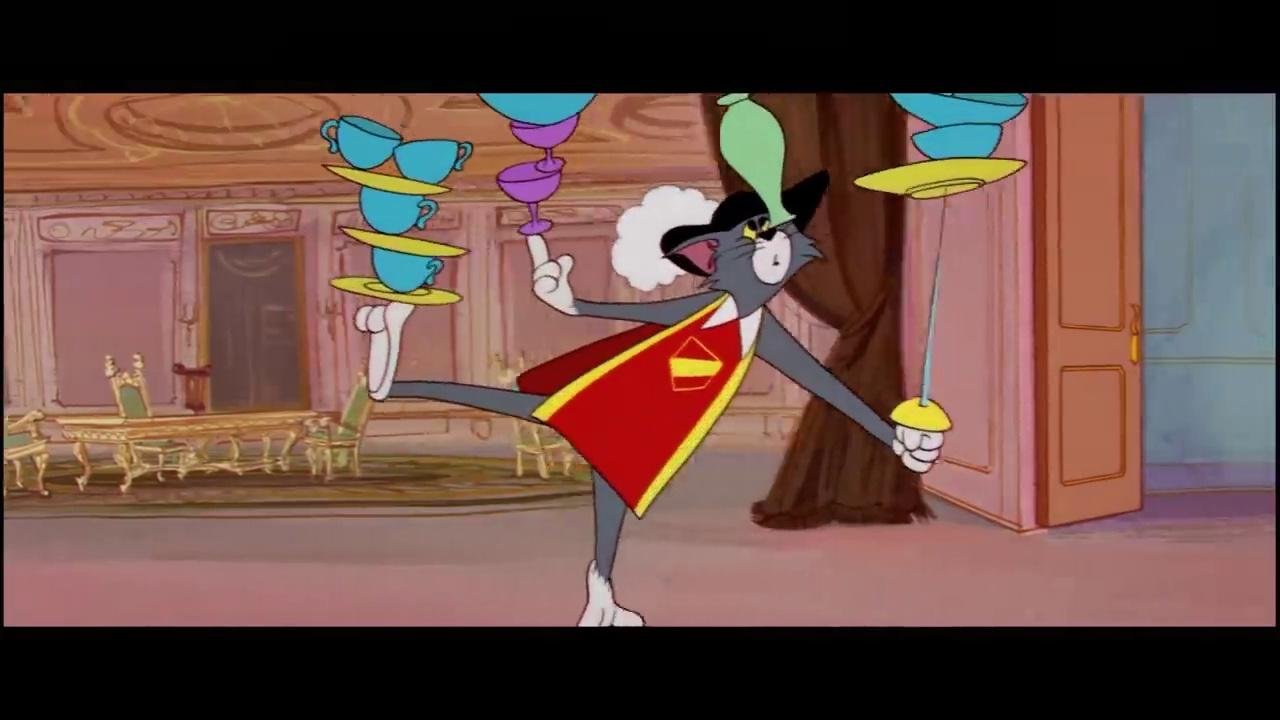Tom: (353, 203, 948, 626)
